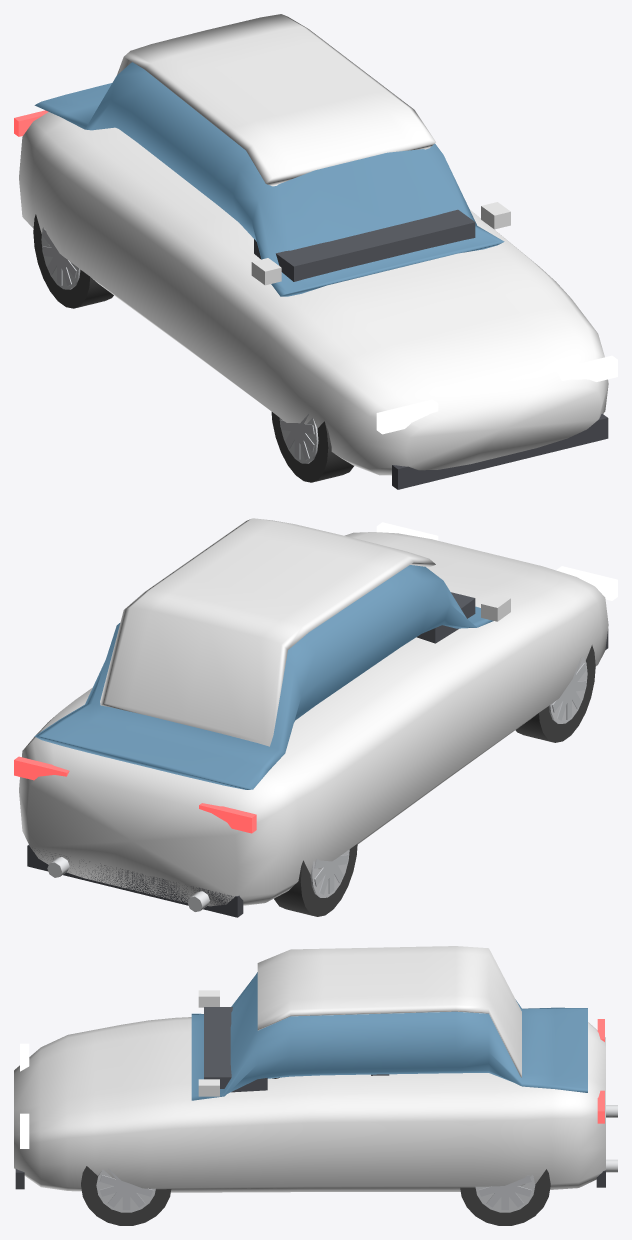
File: traffic_hatch.glb
3 views of the same model, one above another, from view 1: azimuth 30°, elevation 25°; view 2: azimuth 150°, elevation 25°; view 3: azimuth 270°, elevation 25° (orthographic). The views are drawn at different scales.
Visible parts, largest first — view 1: Body, Glass, Roof, Car_t_hatch, Interior, Wheel_FR, Wheel_RR; view 2: Body, Roof, Glass, Car_t_hatch, Wheel_RR, Wheel_FR, Interior; view 3: Body, Glass, Roof, Wheel_FL, Wheel_RL, Car_t_hatch, Interior.
Part boxes in pixels (bbox=[...]): Body: bbox=[19, 112, 608, 475]; Glass: bbox=[34, 62, 504, 296]; Roof: bbox=[117, 14, 435, 186]; Car_t_hatch: bbox=[14, 110, 617, 489]; Interior: bbox=[254, 209, 475, 281]; Wheel_FR: bbox=[271, 412, 353, 482]; Wheel_RR: bbox=[33, 214, 113, 308]; Body: bbox=[19, 532, 608, 906]; Roof: bbox=[100, 518, 435, 746]; Glass: bbox=[34, 565, 493, 789]; Car_t_hatch: bbox=[14, 522, 617, 917]; Wheel_RR: bbox=[274, 844, 357, 916]; Wheel_FR: bbox=[515, 645, 595, 742]; Interior: bbox=[416, 592, 475, 643]; Body: bbox=[14, 1017, 605, 1192]; Glass: bbox=[191, 972, 587, 1100]; Roof: bbox=[257, 946, 521, 1077]; Wheel_FL: bbox=[81, 1166, 171, 1225]; Wheel_RL: bbox=[460, 1169, 550, 1225]; Car_t_hatch: bbox=[15, 990, 617, 1189]; Interior: bbox=[204, 1007, 389, 1092].
Bounding box in the file's own units: 1.7 × 1.46 × 3.98.
